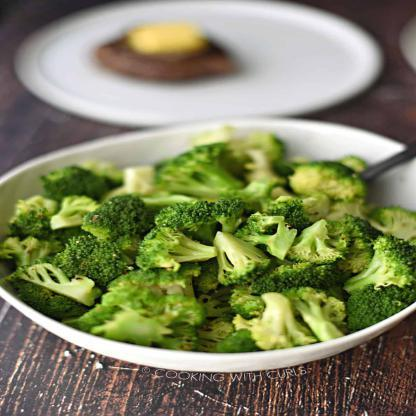broccoli: (0, 125, 416, 353)
